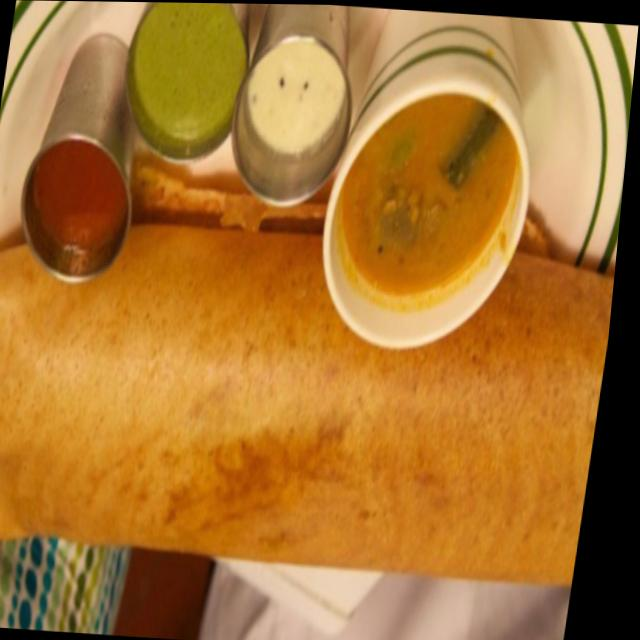DOSA: (0, 223, 614, 588)
GREEN CHUTNEY: (138, 2, 243, 141)
SAMBAR: (346, 94, 516, 294)
WHITE CHUTNEY: (249, 43, 343, 149)
